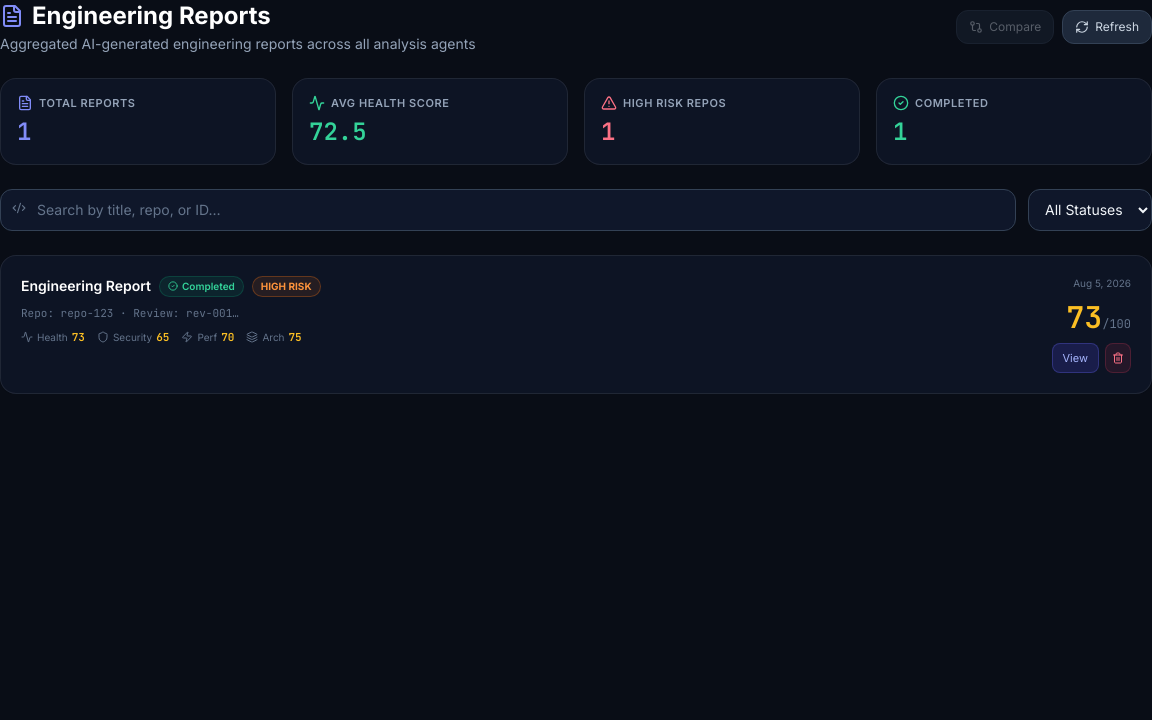
ReportsPage › detail panel shows action items
The width and height of the screenshot is (1152, 720).
Check: the heading "Engineering Report" is shown, box [21,276,151,296]
Click the button "View": (1075, 358) [1052,342,1099,373]
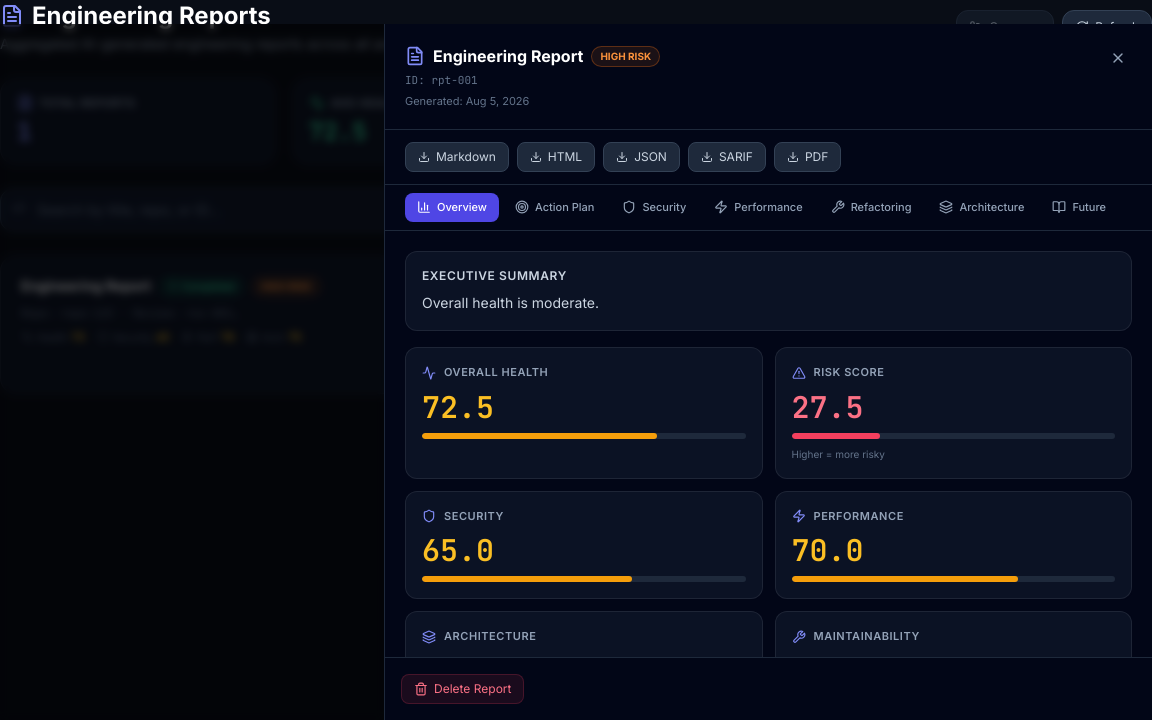
Check: the button "Action Plan" is shown
Click the button "Action Plan": (555, 207) [503,193,606,222]
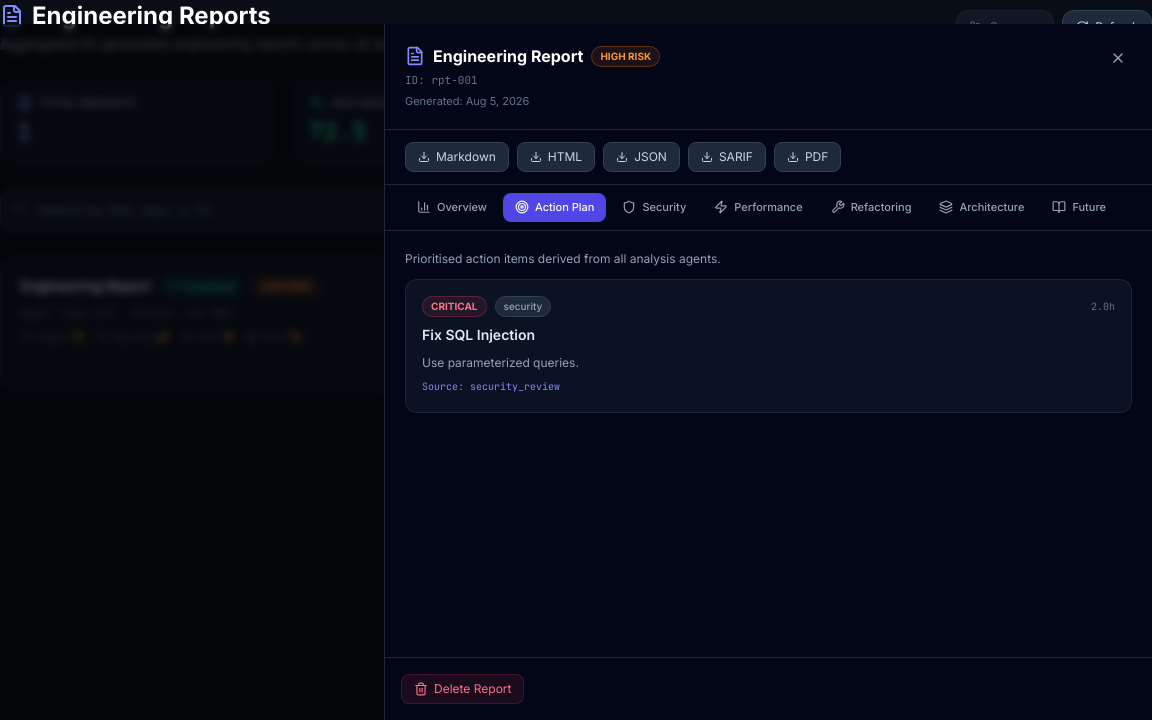
Check: the text "Fix SQL Injection" is shown, box [422,326,535,342]
